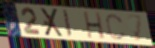2: (21, 7, 42, 37)
7: (126, 13, 144, 44)
C: (105, 13, 127, 41)
H: (83, 11, 106, 41)
I: (62, 9, 74, 39)
X: (40, 7, 65, 38)
